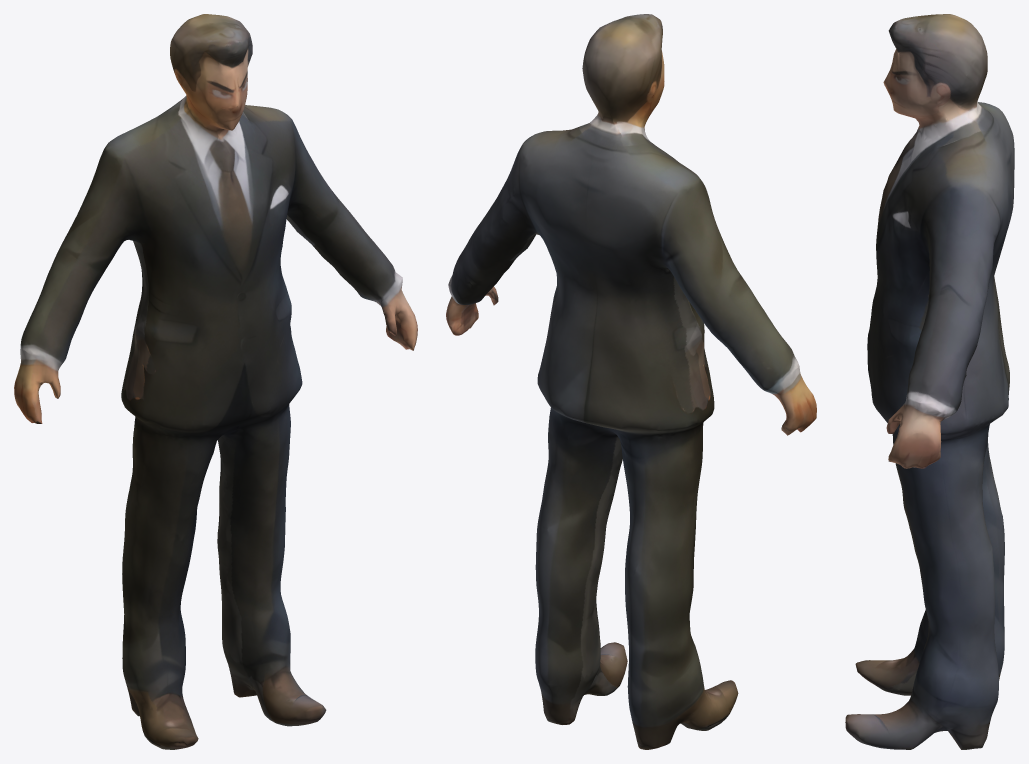
Rendered from Man_in_black_suit_0530093304_refine.fbx.
3 renders of one model, left to right at view 1: azimuth 30°, elevation 25°; view 2: azimuth 150°, elevation 25°; view 3: azimuth 270°, elevation 25°, orthographic.
Visible parts, largest first — view 1: Mesh_0; view 2: Mesh_0; view 3: Mesh_0.
Part boxes in pixels (x1,y1,x2,y2): Mesh_0: (14,14,417,749); Mesh_0: (446,14,816,749); Mesh_0: (845,14,1014,749).
Bounding box in the file's own units: 66.94 × 120 × 26.2.
1 material, 1 textured.
